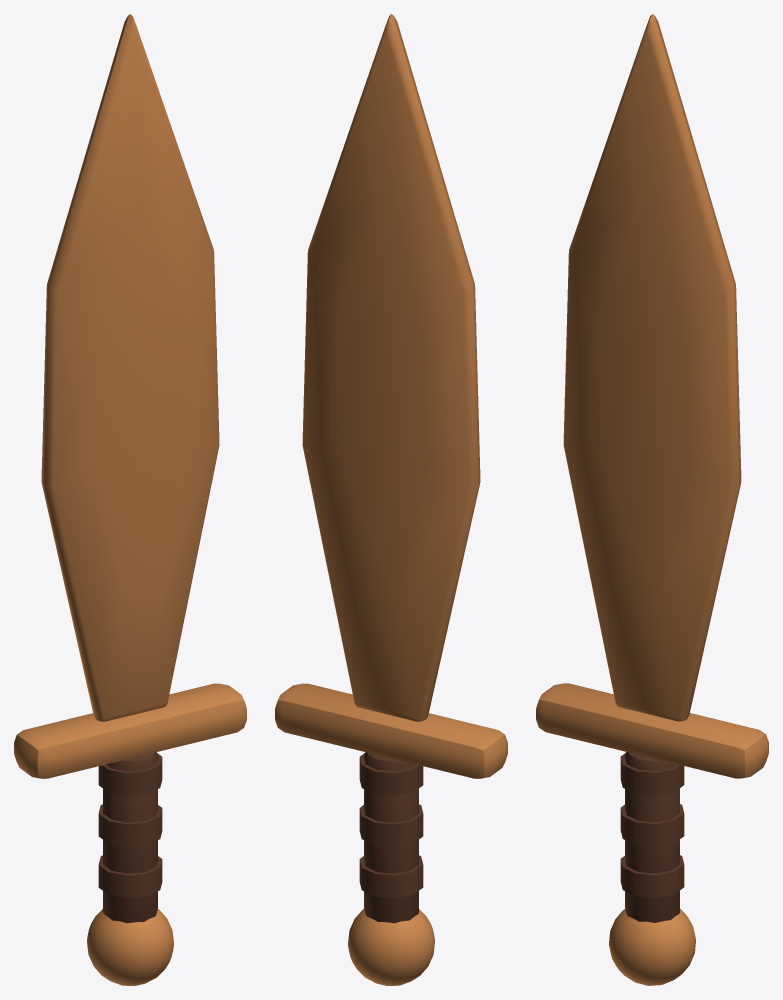
Rendered from leaf.glb.
3 views of the same model, side by side, from view 1: azimuth 30°, elevation 25°; view 2: azimuth 150°, elevation 25°; view 3: azimuth 330°, elevation 25° (orthographic).
Parts seen in each view (by area): view 1: wpn_leaf; view 2: wpn_leaf; view 3: wpn_leaf.
Part boxes in pixels (bbox=[...]): wpn_leaf: bbox=[14, 14, 246, 985]; wpn_leaf: bbox=[275, 14, 507, 985]; wpn_leaf: bbox=[536, 14, 768, 985].
Size of the model in its own units: 0.4 by 1.7 by 0.14.
